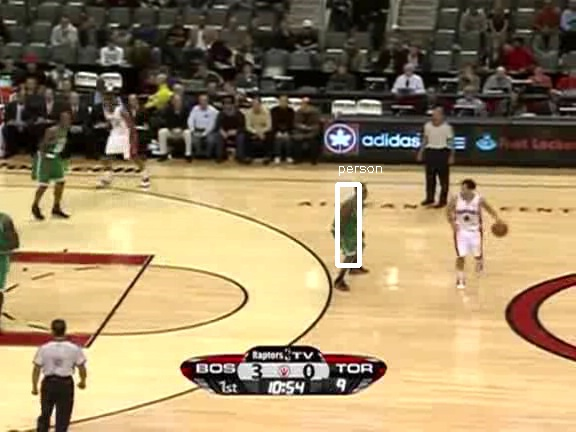person: (332, 185, 366, 266), (331, 185, 365, 266), (333, 185, 367, 266), (332, 184, 366, 265), (332, 186, 366, 267)
target_negative: (178, 186, 525, 390), (201, 218, 512, 431), (144, 140, 344, 358), (465, 49, 534, 323), (366, 14, 465, 123), (221, 30, 276, 180)
